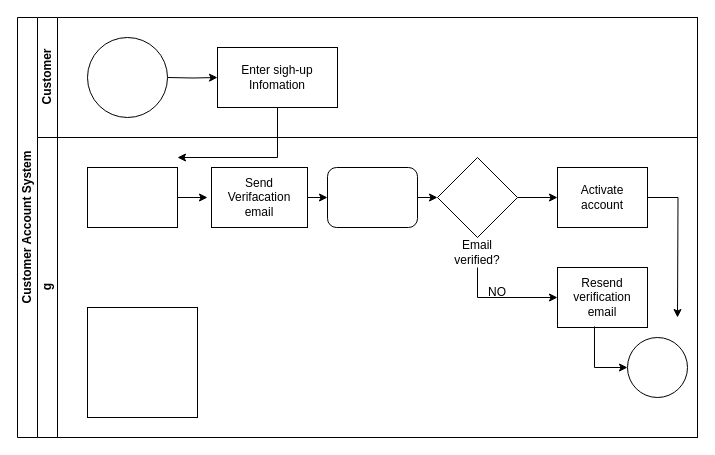
Image size: 715x455. Some labels were removed from this diagram. Here are the shapes that lost their labels. From the top down, the centre of each, then its label:
At [127,77]: "Star sigt-up".
At [132,197]: "Create user Account".
At [372,197]: "Cllick Verifacation email".
At [142,362]: "Rajabboyev Murodjon I25D".
